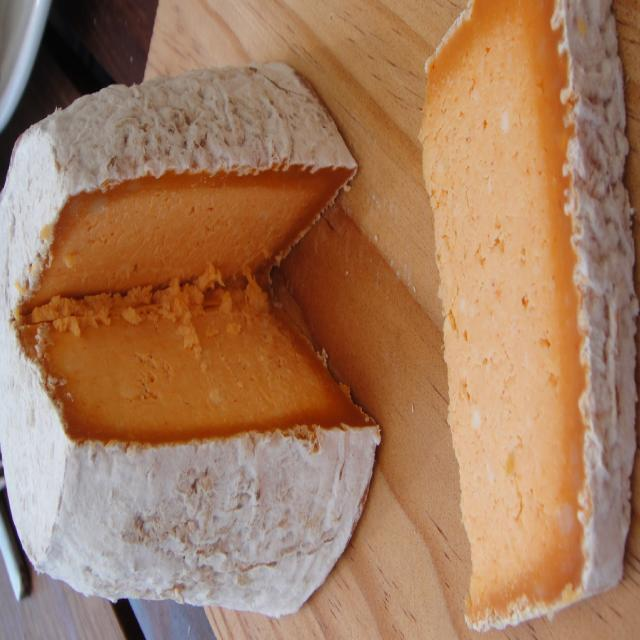Cheese: (420, 1, 634, 629)
